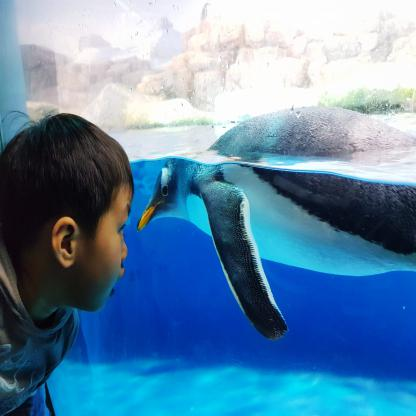Penguin: (131, 94, 415, 348)
